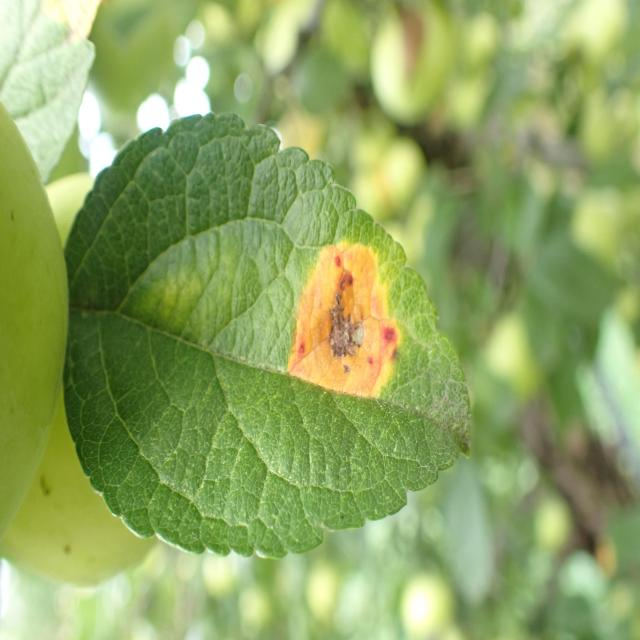Rust: (288, 223, 404, 424)
